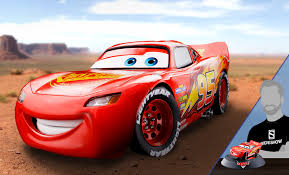mcqueen: (14, 37, 232, 162)
